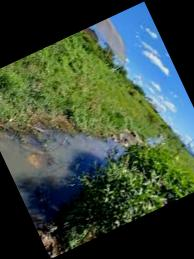Stagnant water: (0, 30, 194, 258)
